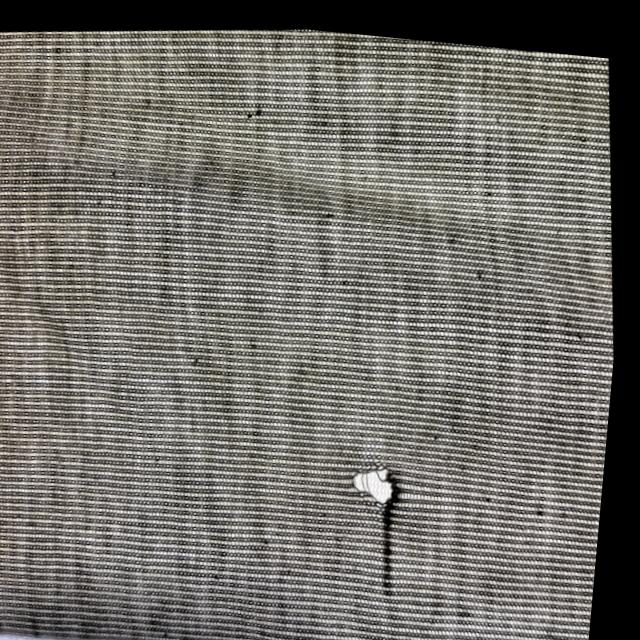Hole: (335, 426, 431, 537)
